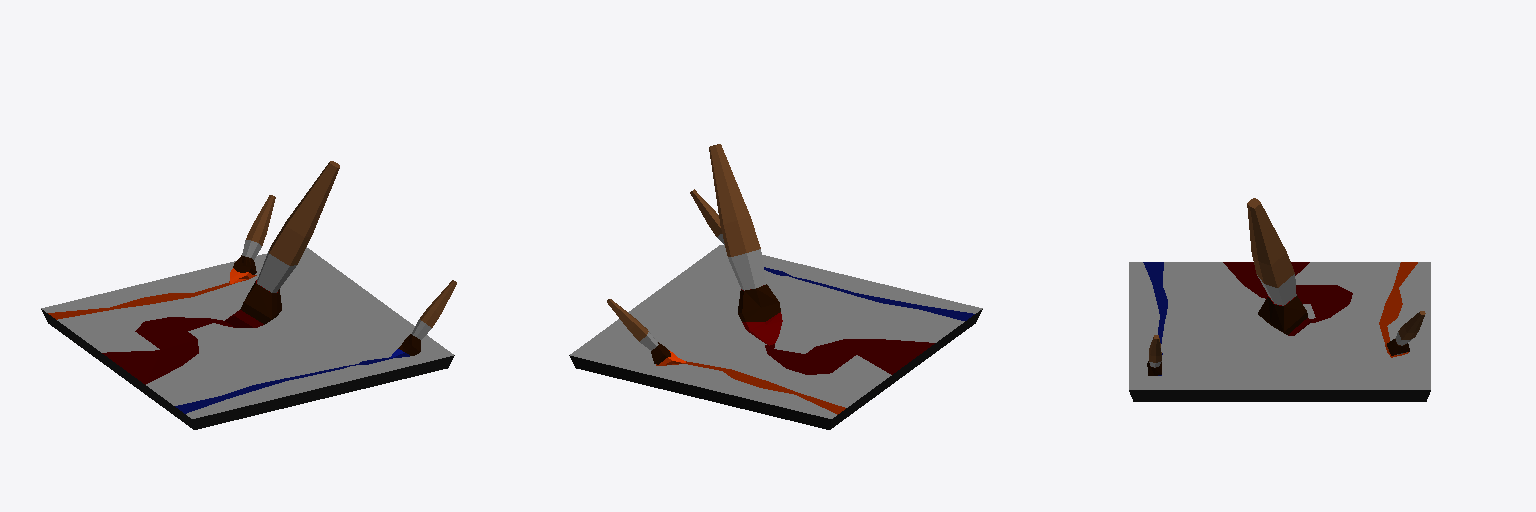
Rendered from brush_preview.obj.
The picture shows the model from 3 angles: view 1: azimuth 30°, elevation 25°; view 2: azimuth 150°, elevation 25°; view 3: azimuth 270°, elevation 25°; orthographic projection.
Parts seen in each view (by area): view 1: Cube.003_Cube.002, Cube.002_Cube.001, Cube.001_Cube.000, Cube.000_Cube.003; view 2: Cube.003_Cube.002, Cube.002_Cube.001, Cube.001_Cube.000, Cube.000_Cube.003; view 3: Cube.003_Cube.002, Cube.002_Cube.001, Cube.001_Cube.000.
Boxes of the visible parts, x1=… form: Cube.003_Cube.002: x1=41, y1=247, x2=454, y2=429; Cube.002_Cube.001: x1=222, y1=161, x2=339, y2=327; Cube.001_Cube.000: x1=230, y1=195, x2=275, y2=283; Cube.000_Cube.003: x1=390, y1=280, x2=456, y2=358; Cube.003_Cube.002: x1=569, y1=245, x2=982, y2=429; Cube.002_Cube.001: x1=709, y1=144, x2=782, y2=345; Cube.001_Cube.000: x1=607, y1=299, x2=685, y2=364; Cube.000_Cube.003: x1=690, y1=189, x2=724, y2=244; Cube.003_Cube.002: x1=1129, y1=262, x2=1430, y2=401; Cube.002_Cube.001: x1=1247, y1=198, x2=1311, y2=335; Cube.001_Cube.000: x1=1385, y1=311, x2=1425, y2=355.
Bounding box in the file's own units: 6.37 × 3.83 × 6.